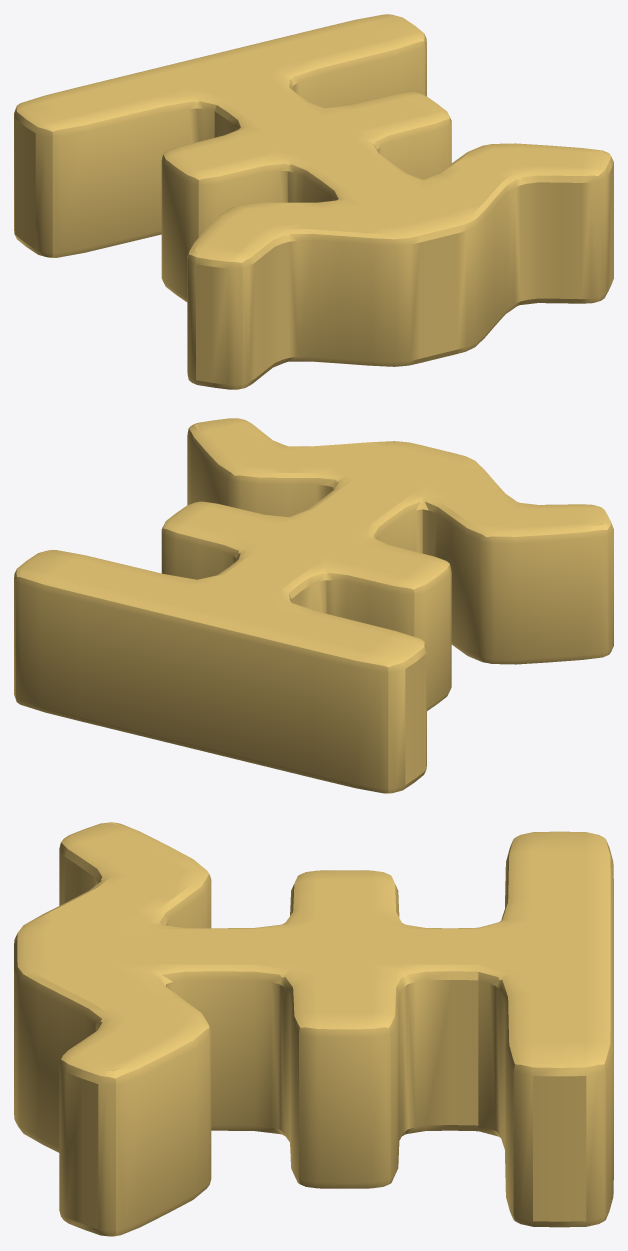
Rendered from symbol.fbx.
3 renders of one model, top to bottom at view 1: azimuth 30°, elevation 25°; view 2: azimuth 150°, elevation 25°; view 3: azimuth 270°, elevation 25°, orthographic. The views are drawn at different scales.
Visible parts, largest first — view 1: symbol; view 2: symbol; view 3: symbol.
Part boxes in pixels (x1,y1,x2,y2): symbol: (14, 14, 613, 389); symbol: (14, 418, 613, 793); symbol: (14, 822, 613, 1236).
Bounding box in the file's own units: 28.87 × 8.67 × 28.53.
